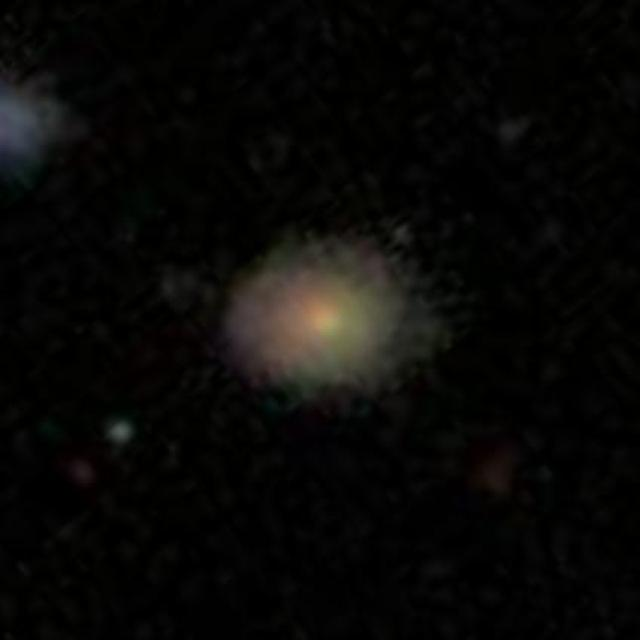galaxy: (160, 216, 458, 406), (1, 71, 68, 177), (61, 456, 101, 489), (106, 421, 136, 446)
